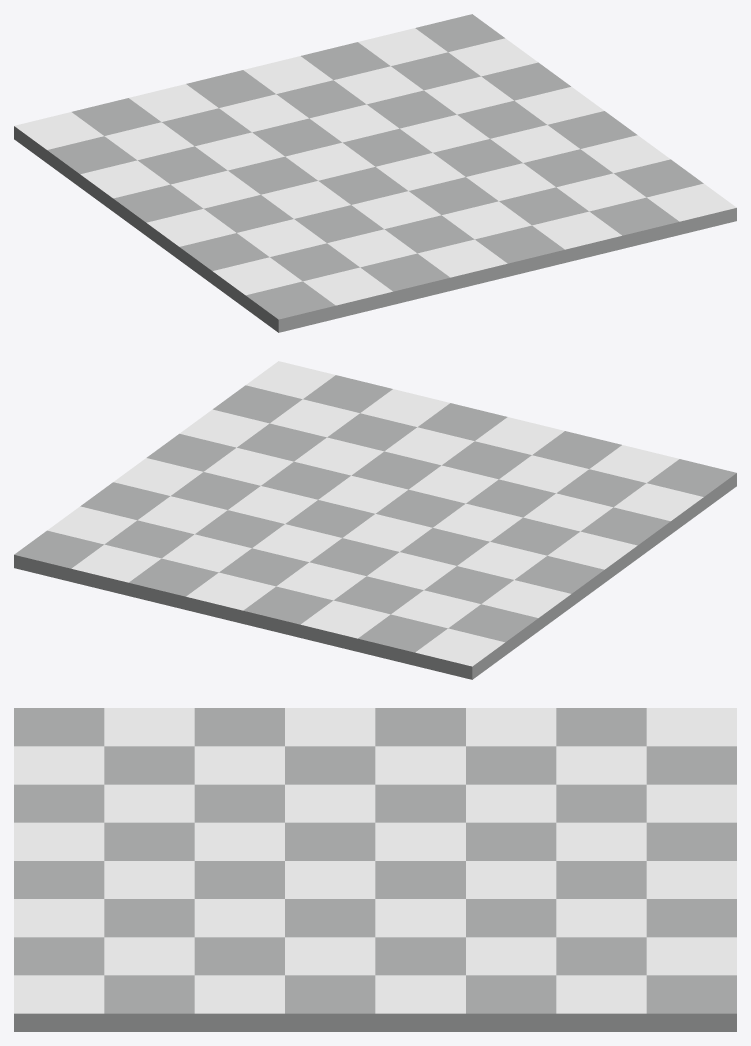
Rendered from Board.obj.
3 renders of one model, top to bottom at view 1: azimuth 30°, elevation 25°; view 2: azimuth 150°, elevation 25°; view 3: azimuth 270°, elevation 25°, orthographic. The views are drawn at different scales.
Visible parts, largest first — view 1: Board; view 2: Board; view 3: Board.
Boxes of the visible parts, box(x1,y1,x2,y2) form: Board: box(14, 14, 736, 332); Board: box(14, 361, 736, 679); Board: box(14, 708, 736, 1031).
Bounding box in the file's own units: 1800 × 50 × 1800.
Materials: 1 (1 with a texture image).
